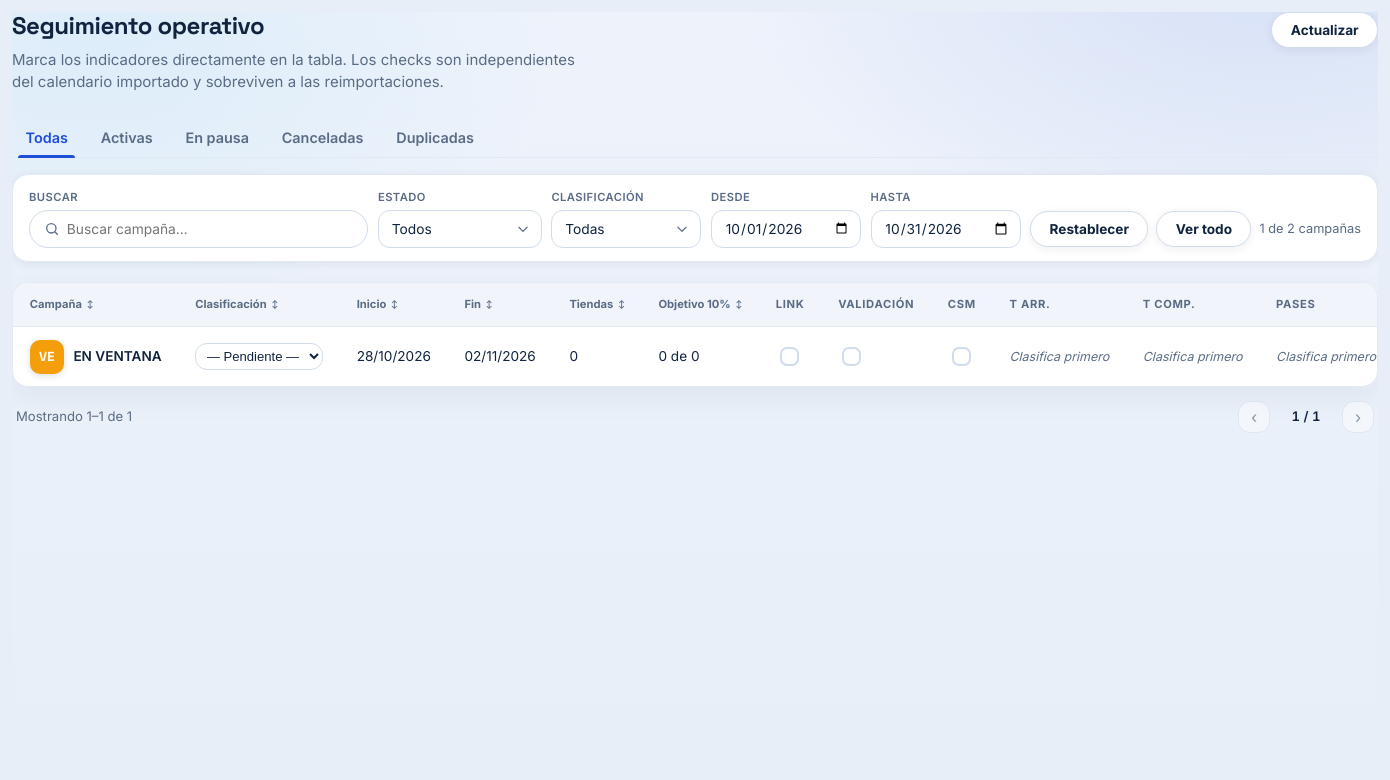
Scenario: OperationalTrackingPage — filtro de periodo › por defecto solo muestra campañas dentro de la mes actual
Expected: the text "EN VENTANA" is shown, [73,346,162,367]
Expected: the text "LEJANA" is not shown
Click the button "Ver todo". click: (1204, 229)
box: [1156,211,1251,247]
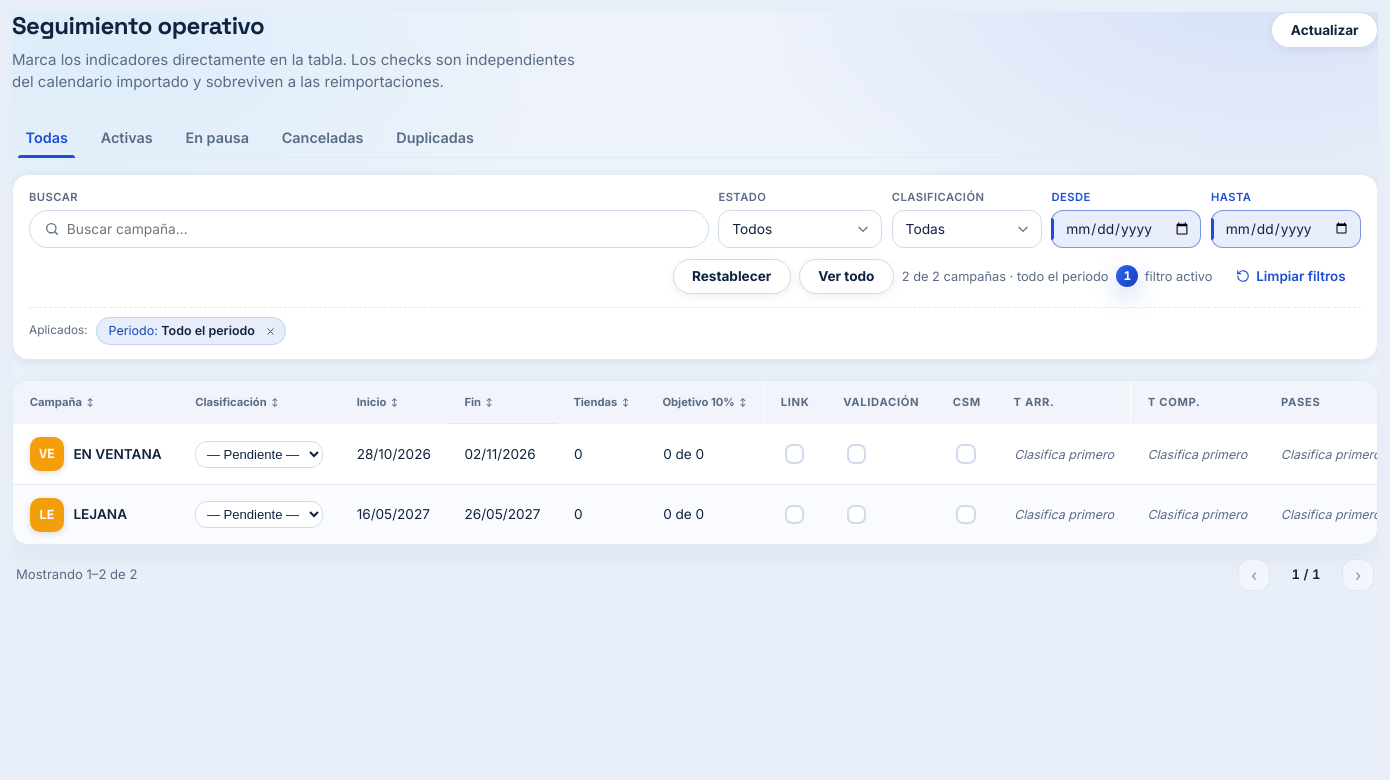
Result: the text "LEJANA" is shown at [73,504,127,525]
Note: …y "Restablecer" vuelve a la ventana por defecto (la oculta).
Click the button "Restablecer". click: (732, 276)
box: [673,259,791,294]
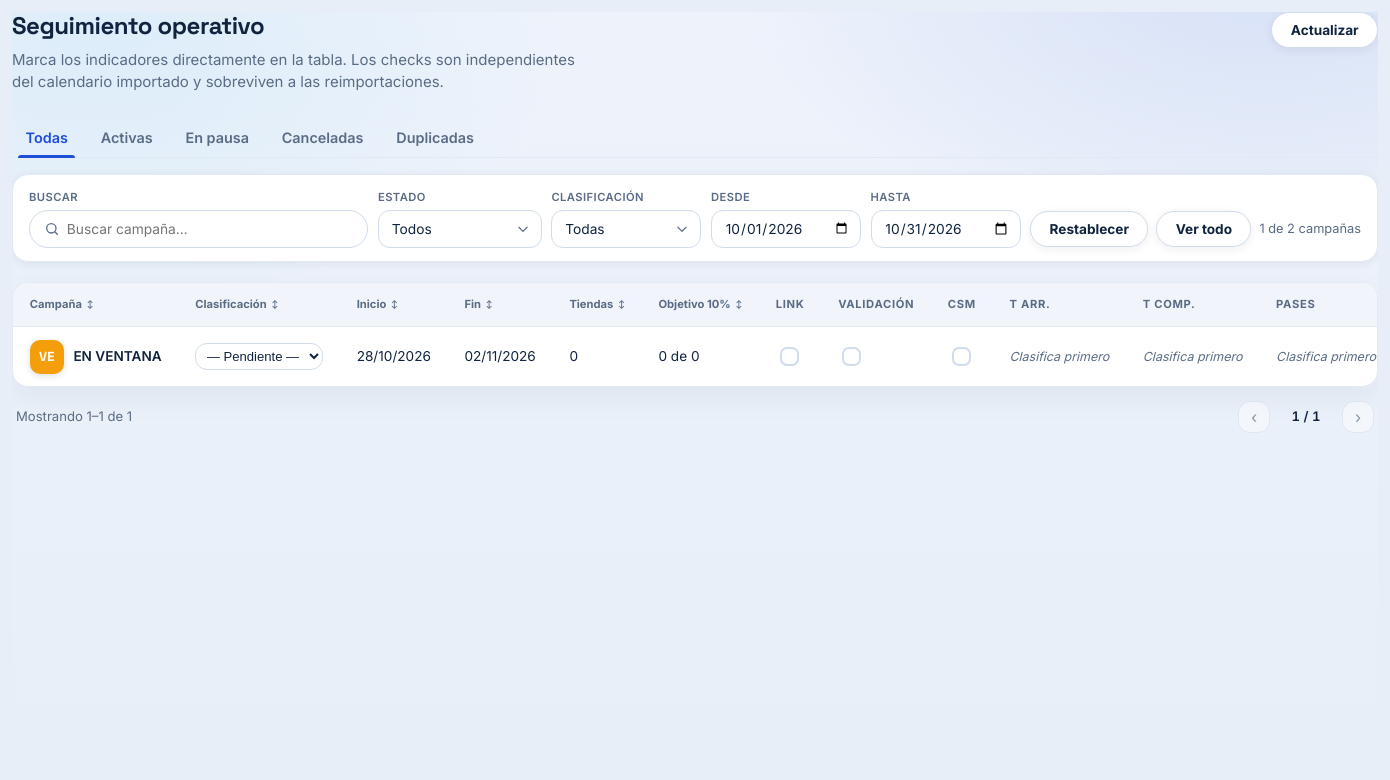
Expected: the text "EN VENTANA" is shown, [73,346,162,367]
Result: the text "LEJANA" is gone
